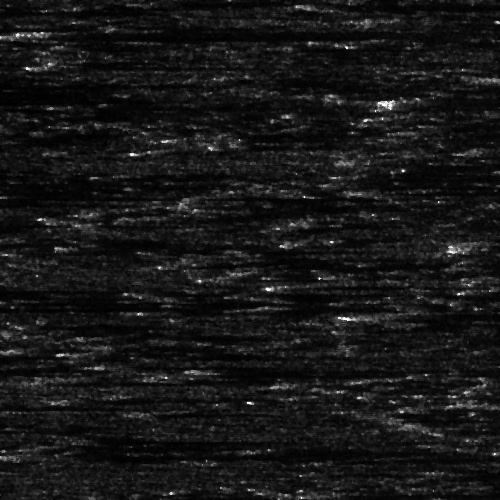object: (218, 485, 395, 498), (314, 307, 407, 322), (65, 358, 158, 371), (0, 26, 99, 37), (450, 68, 500, 81), (0, 188, 40, 201), (178, 140, 251, 147), (0, 450, 51, 459), (275, 0, 338, 7), (341, 187, 414, 192), (254, 282, 317, 287), (26, 63, 79, 68), (20, 378, 51, 385), (183, 368, 224, 373), (394, 98, 425, 103), (0, 366, 7, 375)
shadow: (46, 26, 451, 37), (0, 300, 304, 313), (24, 450, 423, 459), (3, 188, 202, 201), (111, 358, 310, 371), (307, 485, 500, 498), (0, 101, 310, 108), (361, 307, 500, 322), (307, 0, 500, 7), (204, 368, 408, 373), (52, 63, 255, 68), (36, 378, 166, 385), (0, 366, 99, 375), (0, 348, 64, 361), (0, 8, 107, 15), (215, 140, 285, 147), (410, 98, 500, 103), (378, 187, 450, 192), (286, 282, 355, 287), (0, 404, 64, 409)
